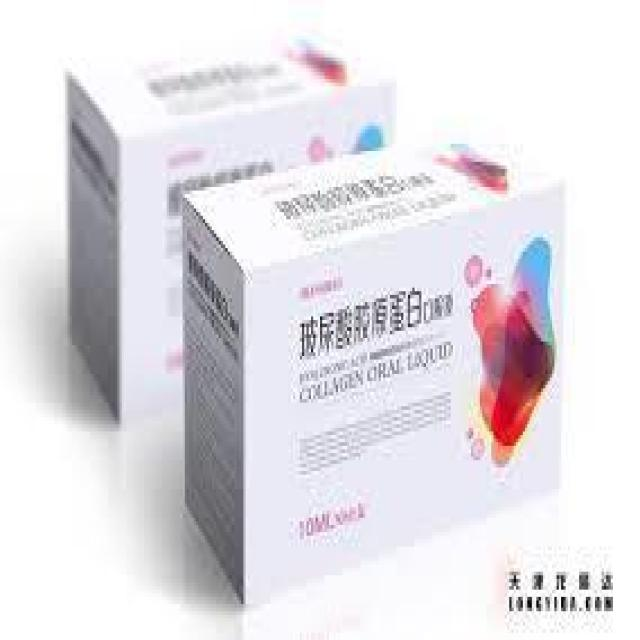inorganic: (56, 33, 564, 605)
